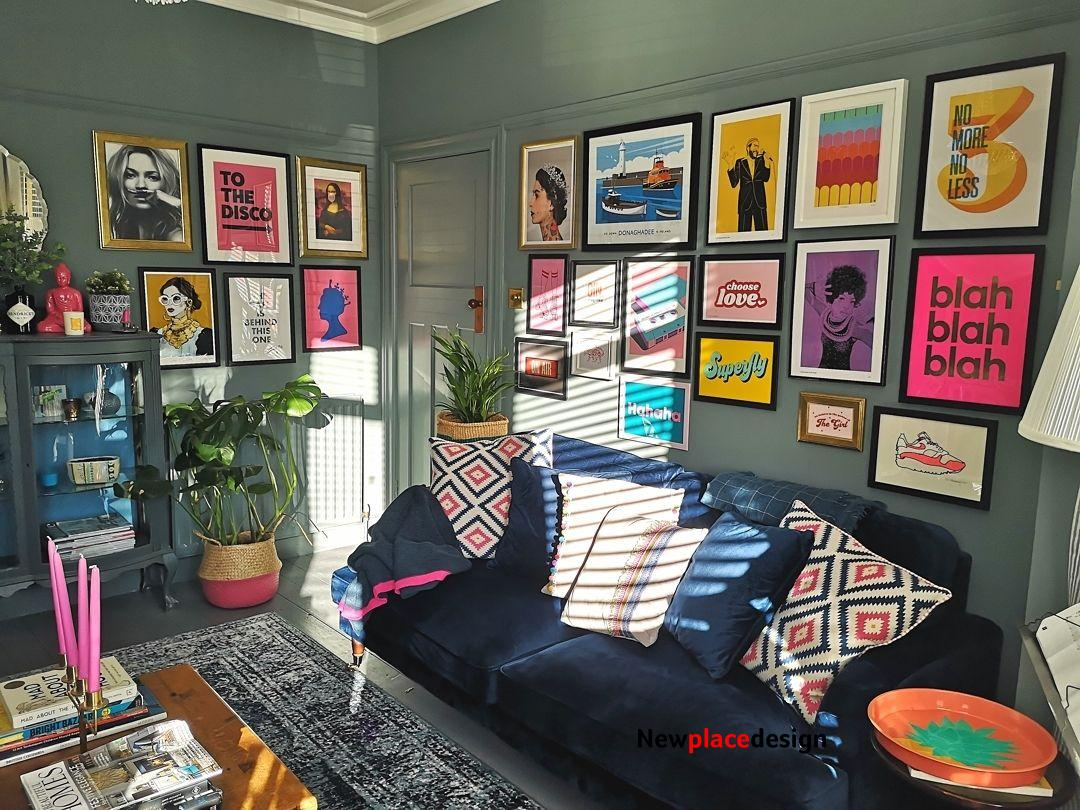biru: (40, 466, 61, 488)
hitam: (5, 286, 34, 332)
orange: (867, 684, 1051, 784)
pink: (48, 540, 75, 668), (42, 265, 87, 331), (90, 572, 103, 694), (75, 561, 88, 683)
putih: (66, 310, 85, 334)
